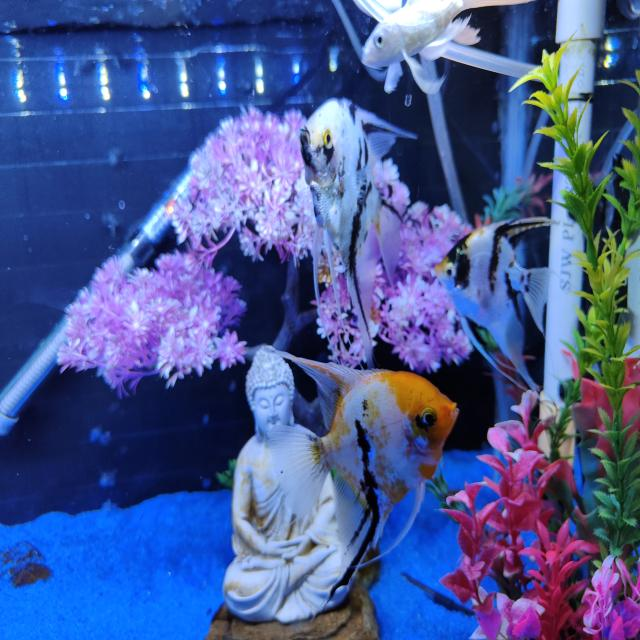Fish: (269, 353, 458, 595), (300, 99, 417, 366), (436, 218, 555, 390), (362, 0, 532, 93)
